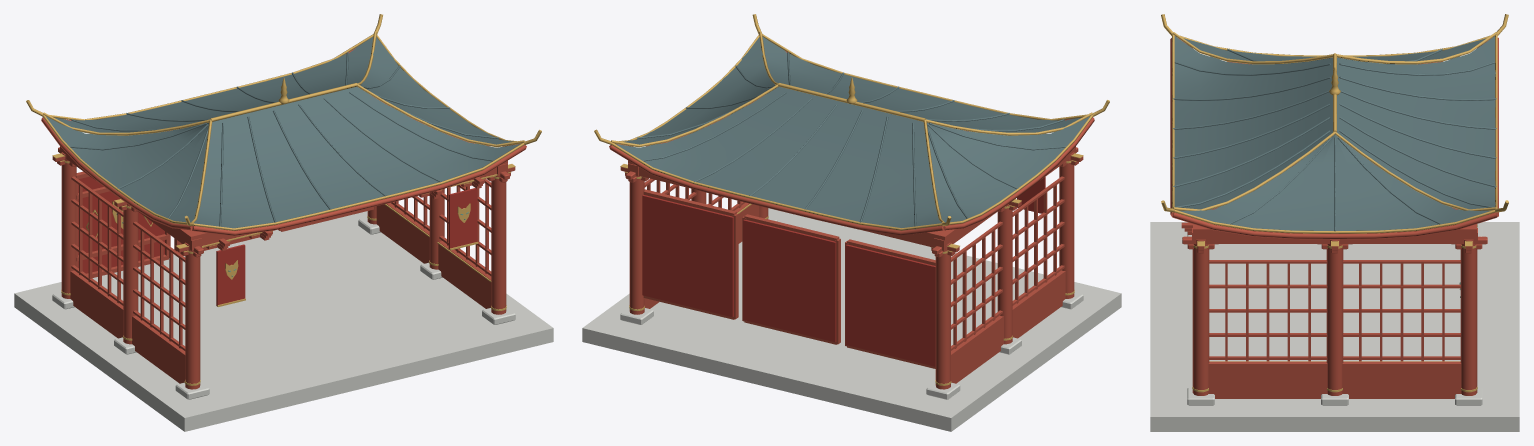
File: fox_shrine.glb
3 renders of one model, left to right at view 1: azimuth 30°, elevation 25°; view 2: azimuth 150°, elevation 25°; view 3: azimuth 270°, elevation 25°, orthographic. The views are drawn at different scales.
Parts seen in each view (by area): view 1: fox_shrine_Stone, fox_shrine_Roof, fox_shrine_Timber, fox_shrine_Gold, fox_shrine_Cloth; view 2: fox_shrine_Roof, fox_shrine_Stone, fox_shrine_Cloth, fox_shrine_Timber, fox_shrine_Gold; view 3: fox_shrine_Roof, fox_shrine_Stone, fox_shrine_Timber, fox_shrine_Gold.
Boxes of the visible parts, box(x1,y1,x2,y2) form: fox_shrine_Stone: box(14, 211, 553, 431); fox_shrine_Roof: box(46, 37, 520, 229); fox_shrine_Timber: box(41, 48, 526, 389); fox_shrine_Gold: box(26, 14, 541, 385); fox_shrine_Cloth: box(78, 176, 477, 305); fox_shrine_Roof: box(615, 37, 1089, 229); fox_shrine_Stone: box(582, 208, 1121, 431); fox_shrine_Cloth: box(642, 177, 1045, 366); fox_shrine_Timber: box(609, 51, 1094, 389); fox_shrine_Gold: box(594, 14, 1109, 385); fox_shrine_Roof: box(1173, 36, 1496, 231); fox_shrine_Stone: box(1150, 222, 1519, 431); fox_shrine_Timber: box(1170, 37, 1498, 398); fox_shrine_Gold: box(1161, 14, 1508, 392).
Size of the model in its own units: 10 by 6.39 by 8.
